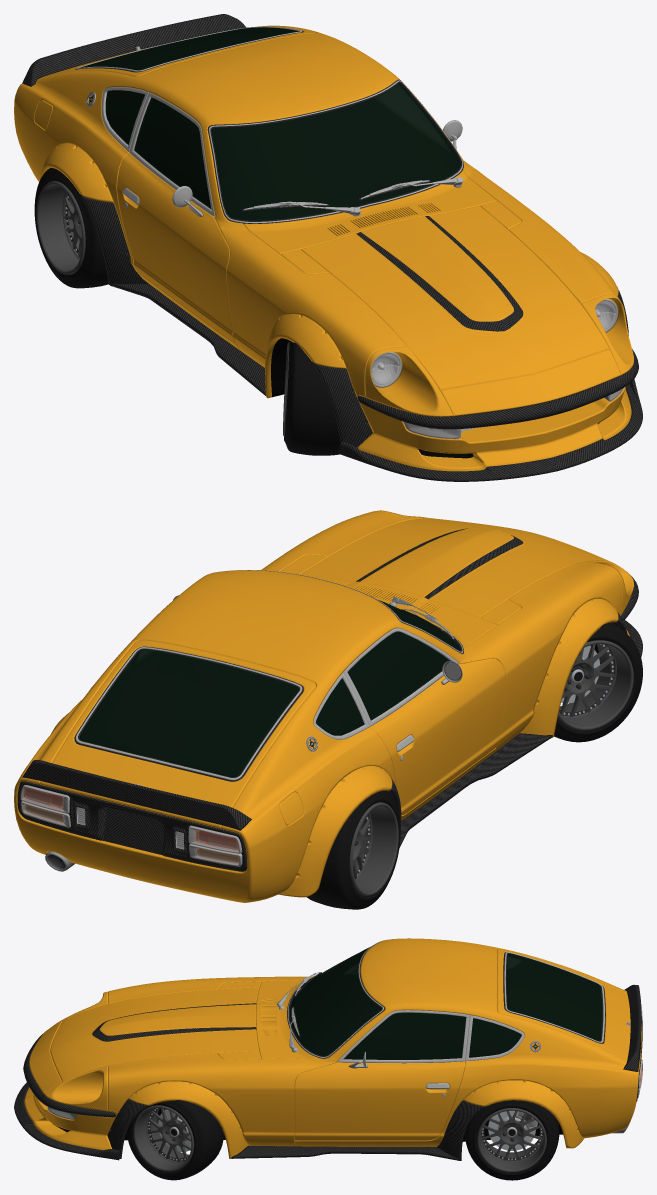
3 renders of one model, top to bottom at view 1: azimuth 30°, elevation 25°; view 2: azimuth 150°, elevation 25°; view 3: azimuth 270°, elevation 25°, orthographic. The views are drawn at different scales.
Visible parts, largest first — view 1: part1, part4, part3, wheel_RB, part7, wheel_RF, part5, part6, part8, part10; view 2: part1, part4, part3, wheel_RF, wheel_RB, part7, part5, part6, part0, part9; view 3: part1, part4, part3, wheel_LF, wheel_LB, part7, part5.
Part boxes in pixels (x1,y1,x2,y2): part1: (14,25,633,471); part4: (80,27,460,220); part3: (22,14,642,481); wheel_RB: (34,167,108,288); part7: (76,26,463,223); wheel_RF: (283,340,344,455); part5: (75,27,463,223); part6: (371,301,624,439); part8: (371,299,618,387); part10: (271,211,599,458); part1: (14,510,633,902); part4: (79,600,460,777); part3: (17,528,642,871); wheel_RF: (554,622,642,742); wheel_RB: (306,790,400,909); part7: (20,570,463,866); part5: (74,570,463,781); part6: (22,788,239,863); part0: (24,787,238,850); part9: (24,804,239,863); part1: (24,938,641,1158); part4: (290,948,602,1059); part3: (14,984,642,1160); wheel_LF: (127,1100,223,1180); wheel_LB: (464,1100,559,1180); part7: (276,940,642,1097); part5: (287,942,605,1068).
Size of the model in its own units: 2.02 by 1.21 by 4.27.
15 materials, 5 textured.
